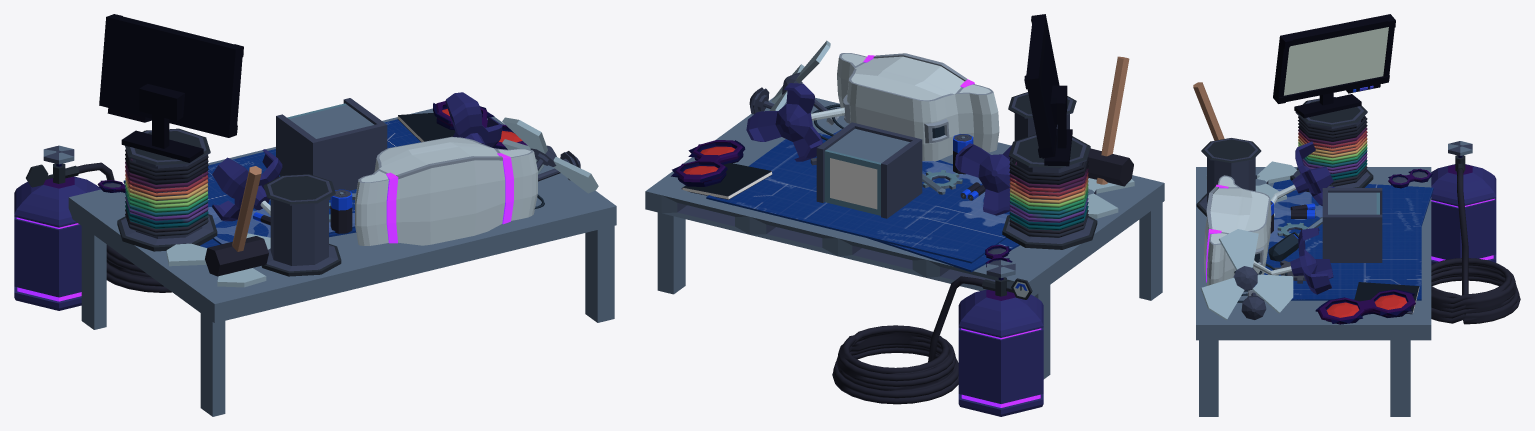
The model's file is RivenWeldDesk.fbx.
3 renders of one model, left to right at view 1: azimuth 30°, elevation 25°; view 2: azimuth 150°, elevation 25°; view 3: azimuth 270°, elevation 25°, orthographic. The views are drawn at different scales.
Parts seen in each view (by area): view 1: Cube.478; view 2: Cube.478; view 3: Cube.478.
Part boxes in pixels (x1=…): Cube.478: x1=14, y1=14, x2=616, y2=416; Cube.478: x1=645, y1=14, x2=1164, y2=416; Cube.478: x1=1193, y1=14, x2=1520, y2=416.
Size of the model in its own units: 311 by 210 by 247.
